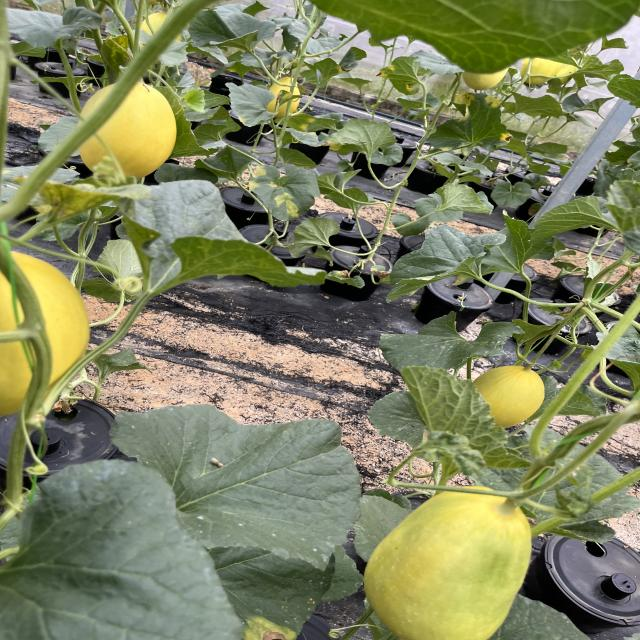CMV: (401, 366, 534, 472), (376, 311, 524, 370)
alternaria leaf blight: (225, 550, 336, 640)
downy mildew: (249, 164, 322, 220)
healthy: (389, 227, 487, 286), (521, 194, 610, 245), (184, 4, 278, 52), (324, 117, 403, 166), (432, 100, 512, 148), (411, 183, 492, 226), (606, 70, 640, 102)
powdery mildew: (156, 411, 368, 542)
